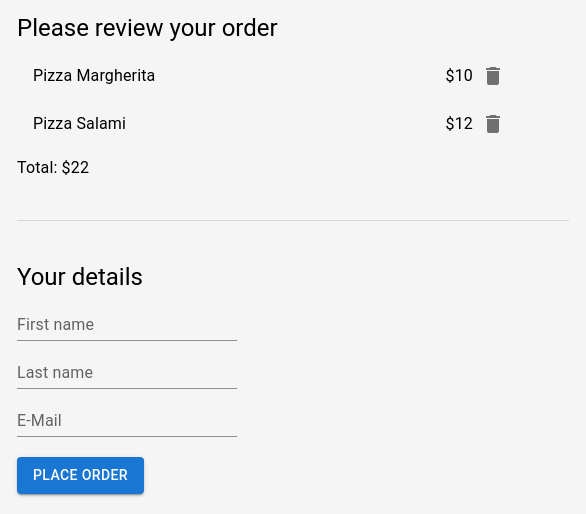
Test: Checkout › should remove unique order items from the list
Click the button with test id "CHECKOUT_REMOVE_ORDER_ITEM" next to "$10": (493, 76) [473,56,513,96]
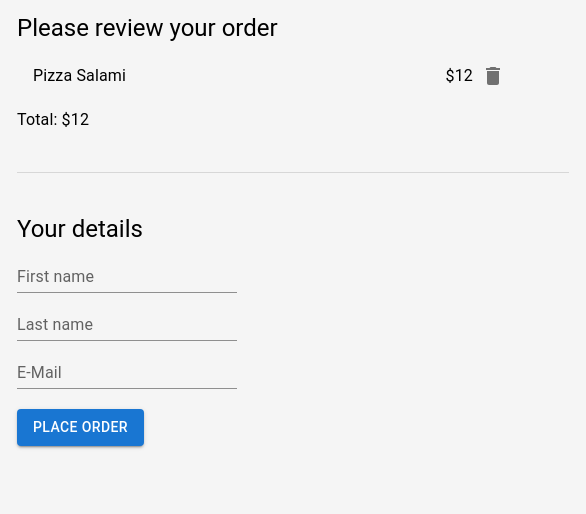
Expected: the number of list items with test id "CHECKOUT_ORDER_ITEM" is 1, [17,52,517,100]
